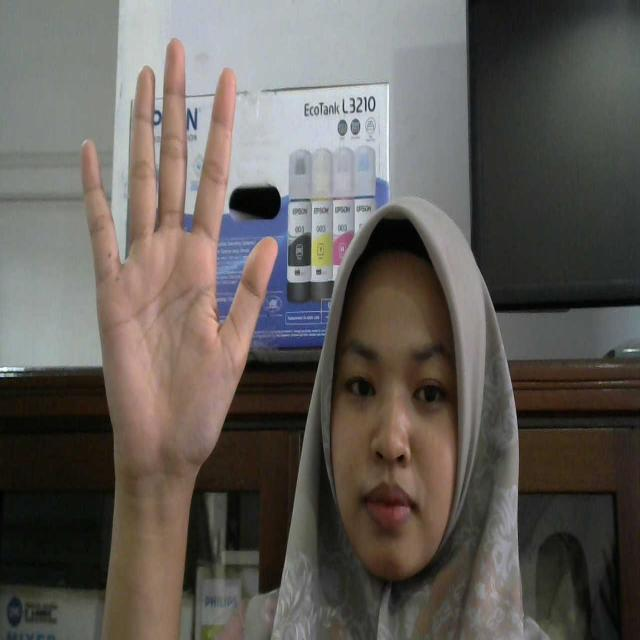hand: (59, 12, 280, 640)
